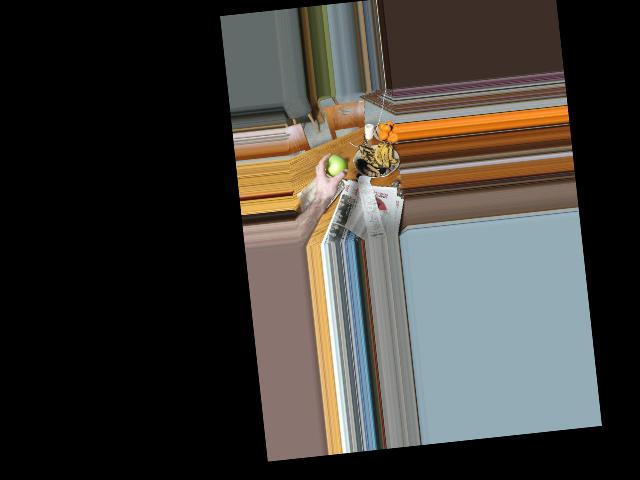apple: (323, 153, 349, 178)
